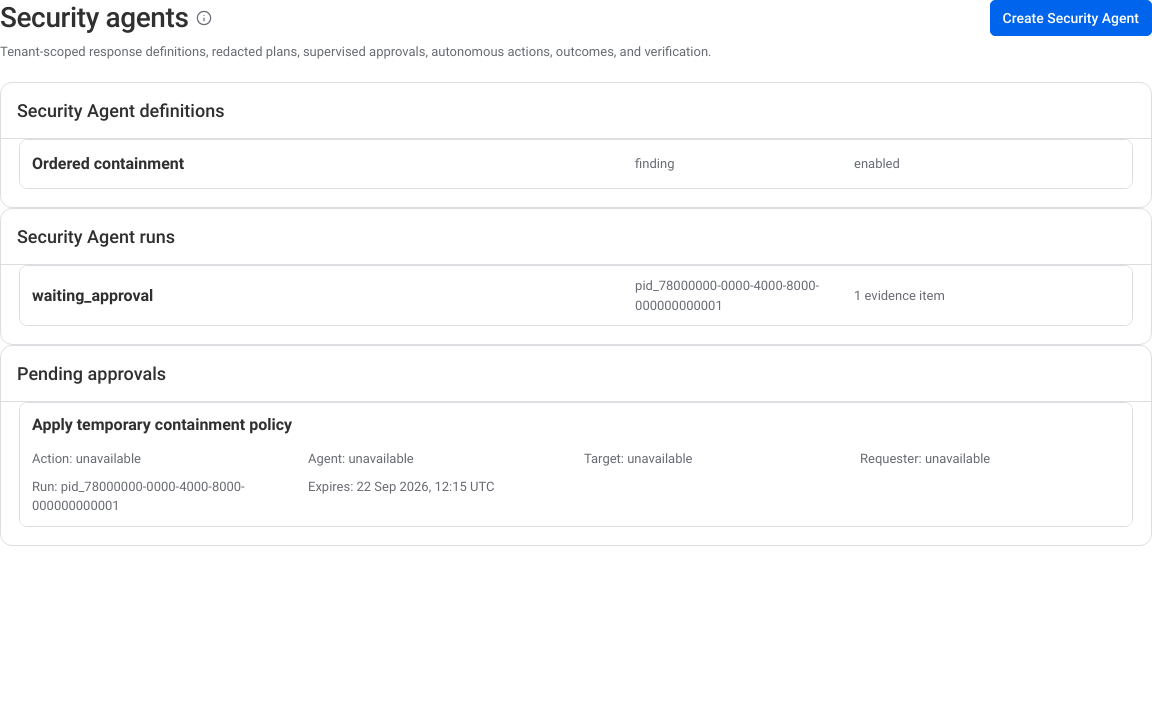
Test: ordered run drawer › keeps approved v2 after retained decision when an older refresh returns pending
Later steps or results of the test are not shown.
Click the button with aria-label "Open approval pid_78000000-0000-4000-8000-000000000006" at (162, 424), box [20,403,1132,526]
(page scrolled)
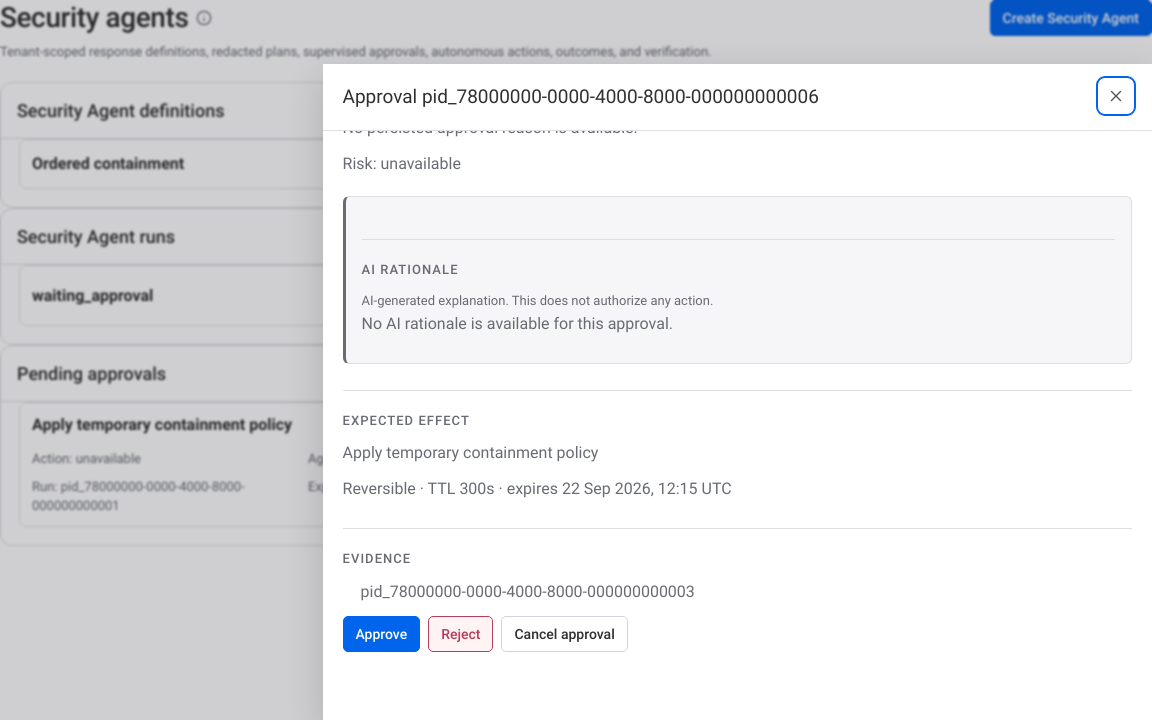
Expected: the dialog is shown
